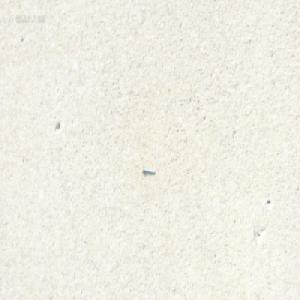Nail: (142, 166, 154, 175)
